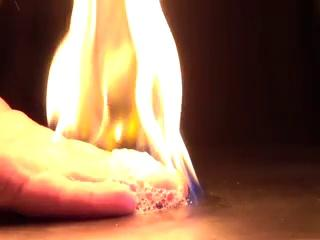Fire: (39, 1, 201, 201)
